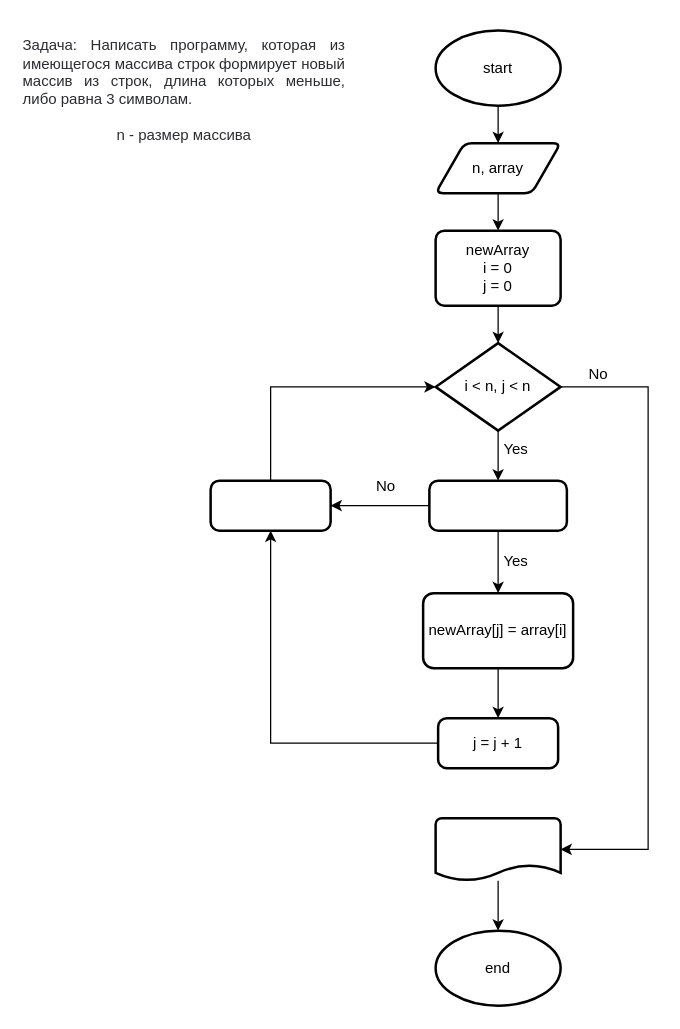
Some shapes in this 680 by 1029 pixel diagram are drawn without their labels. Here are the shapes that lost their labels. From the top down, the centre of each, then its label:
the point at 270,505: i = i + 1
the point at 498,505: array[i] <= 3
the point at 497,848: newArray
